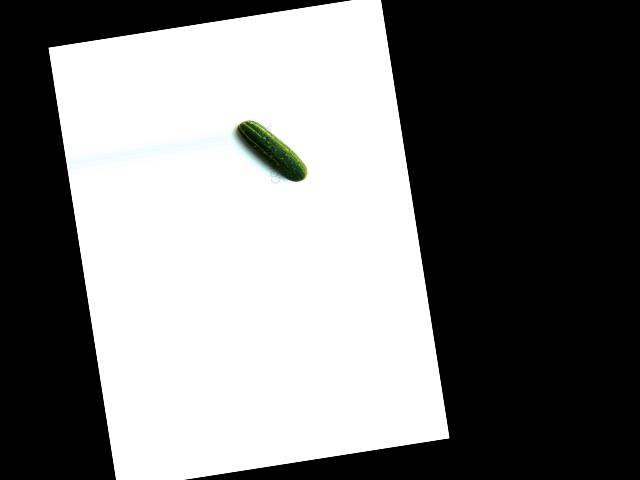cucumber: (236, 111, 308, 189)
